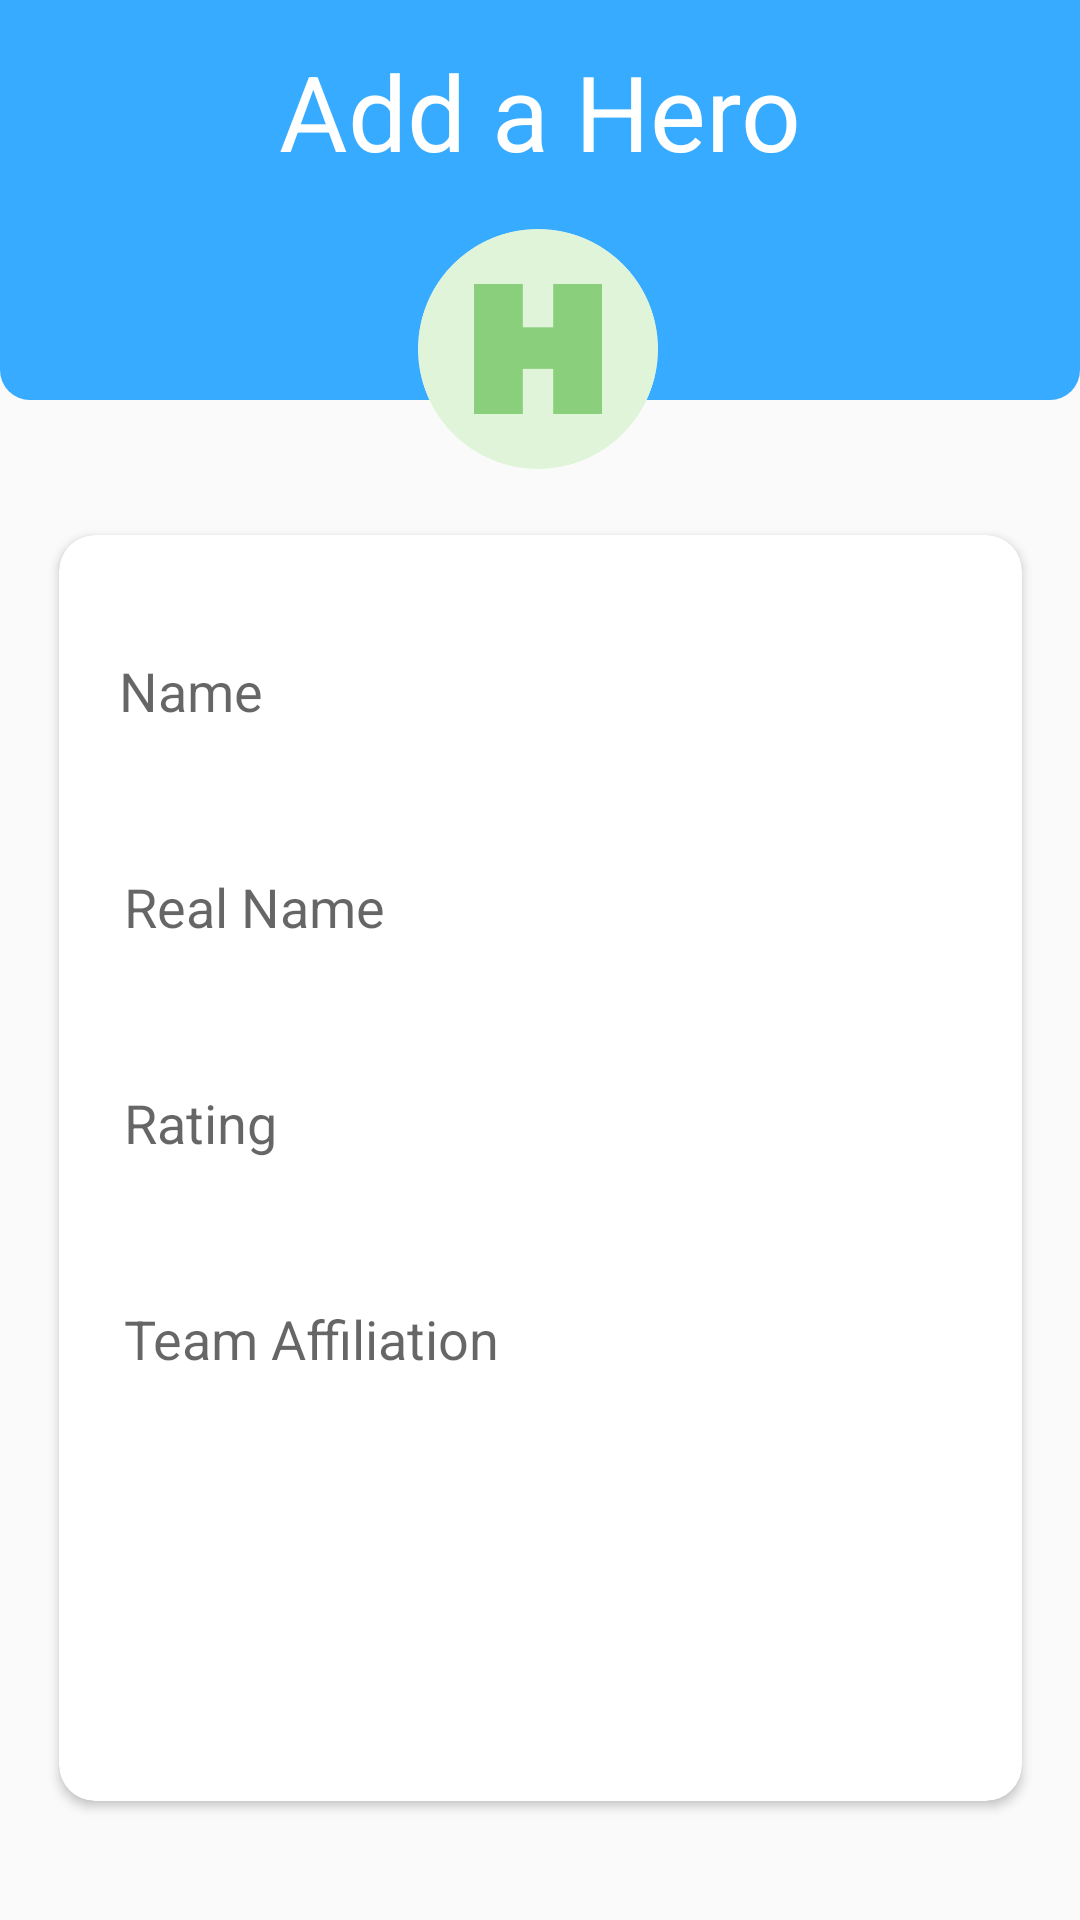

Screen size 1080 x 1920. Icon name, then its center in pixels as (x,y):
herocircle: (538,349)
